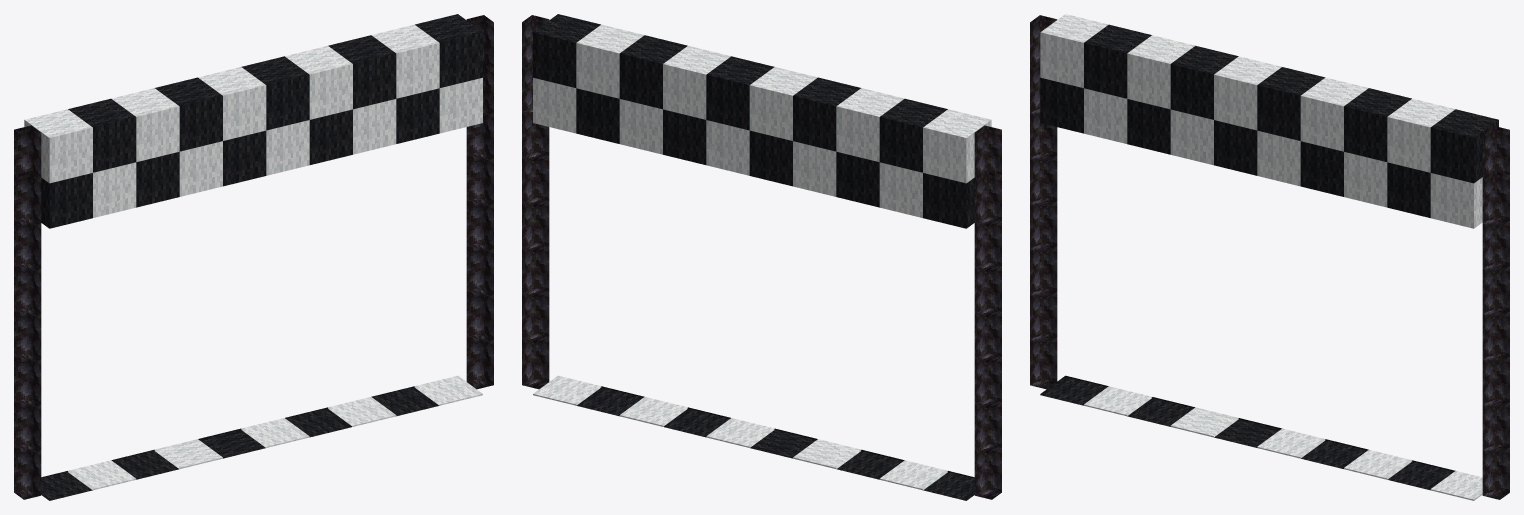
The model's file is ArcoPista2.fbx.
3 views of the same model, side by side, from view 1: azimuth 30°, elevation 25°; view 2: azimuth 150°, elevation 25°; view 3: azimuth 330°, elevation 25° (orthographic).
Parts seen in each view (by area): view 1: Arco; view 2: Arco; view 3: Arco.
Part boxes in pixels (x1=…): Arco: x1=14, y1=14, x2=493, y2=500; Arco: x1=522, y1=14, x2=1001, y2=500; Arco: x1=1030, y1=14, x2=1509, y2=500.
Size of the model in its own units: 1084 by 800 by 100.
